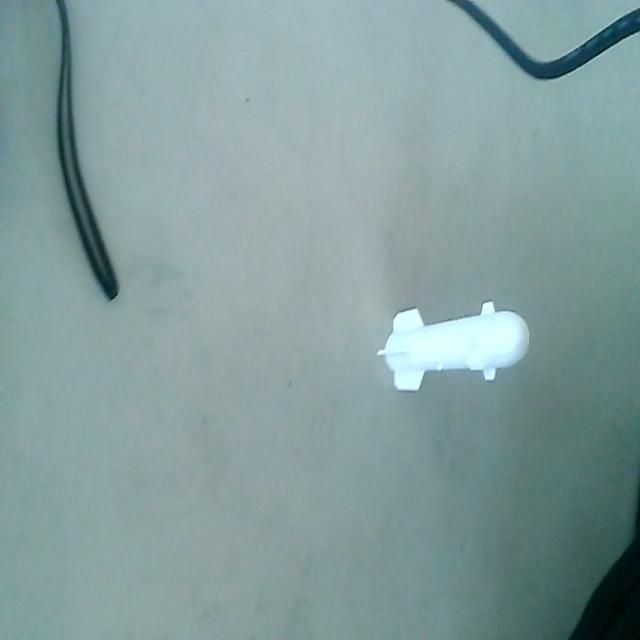Rocket: (376, 291, 530, 413)
